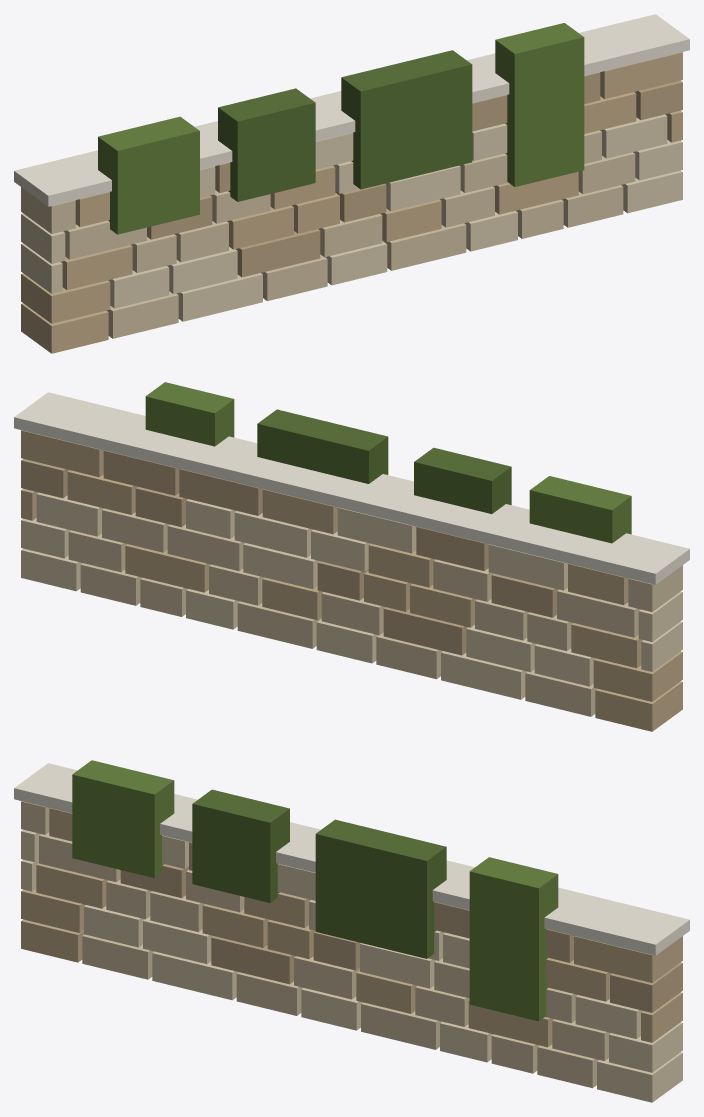
Rendered from bahce-duvari.glb.
3 renders of one model, top to bottom at view 1: azimuth 30°, elevation 25°; view 2: azimuth 150°, elevation 25°; view 3: azimuth 330°, elevation 25°, orthographic.
Visible parts, largest first — view 1: tas1, tas4, asma2, tas2, asma, badana, tas3; view 2: tas4, tas1, tas2, badana, tas3, asma2, asma; view 3: tas1, tas4, asma2, tas2, asma, badana, tas3.
Part boxes in pixels (x1,y1,x2,y2): tas1: (21,130,635,338); tas4: (21,114,682,321); asma2: (218,50,472,201); tas2: (21,52,682,353); asma: (98,23,584,234); badana: (14,14,689,206); tas3: (147,72,682,277); tas4: (21,492,682,699); tas1: (68,508,682,716); tas2: (21,430,682,731); badana: (14,392,689,584); tas3: (21,450,558,655); asma2: (257,409,511,513); asma: (145,382,631,543); tas1: (21,801,610,1088); tas4: (21,829,682,1102); asma2: (192,789,446,958); tas2: (21,808,682,1047); asma: (72,760,558,1021); badana: (14,763,689,955); tas3: (120,842,682,1012).
Bounding box in the file's own units: 6.06 × 1.75 × 0.65.
